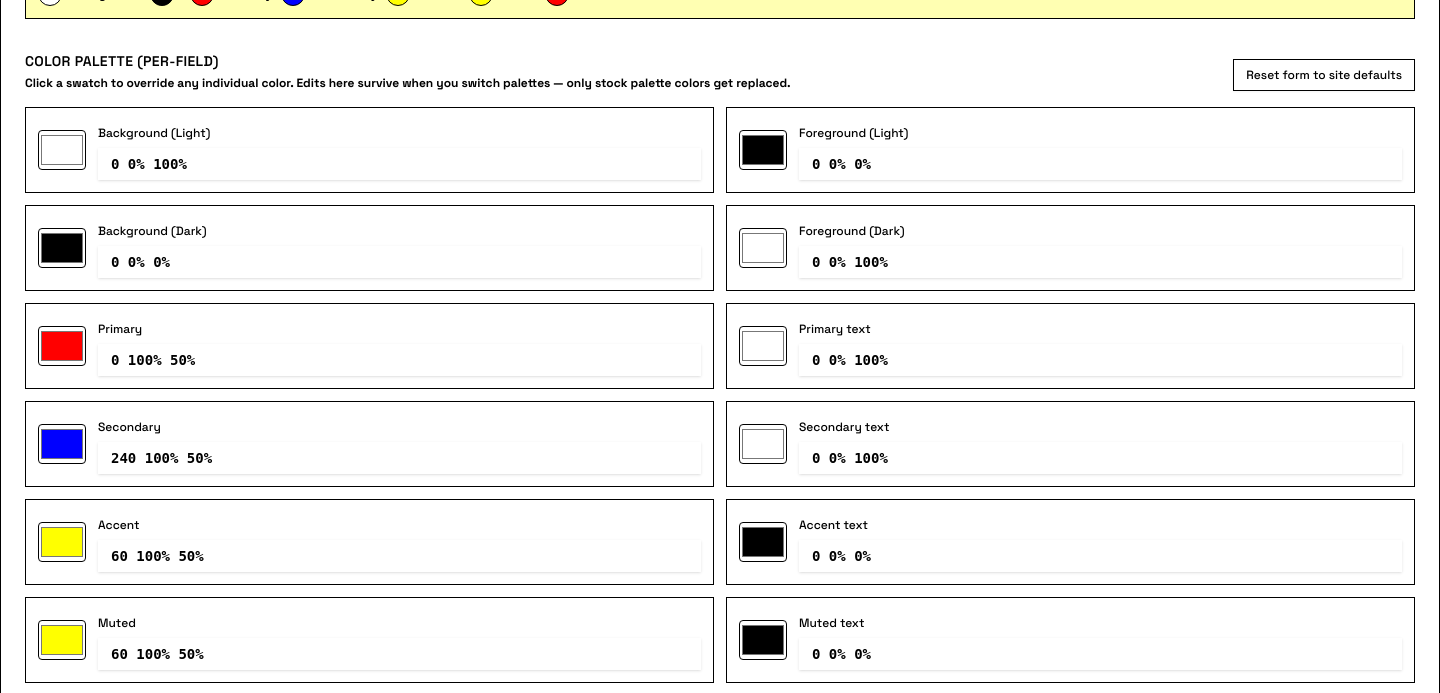
Test: UserPageCustomizationCard › preserves custom edits when switching palettes (smart merge)
The image size is (1440, 693).
(page scrolled)
Type "270 60% 50%" into the field labelled "Primary".
click(400, 360); type("270 60% 50%")  # box [98,344,701,376]
(page scrolled)
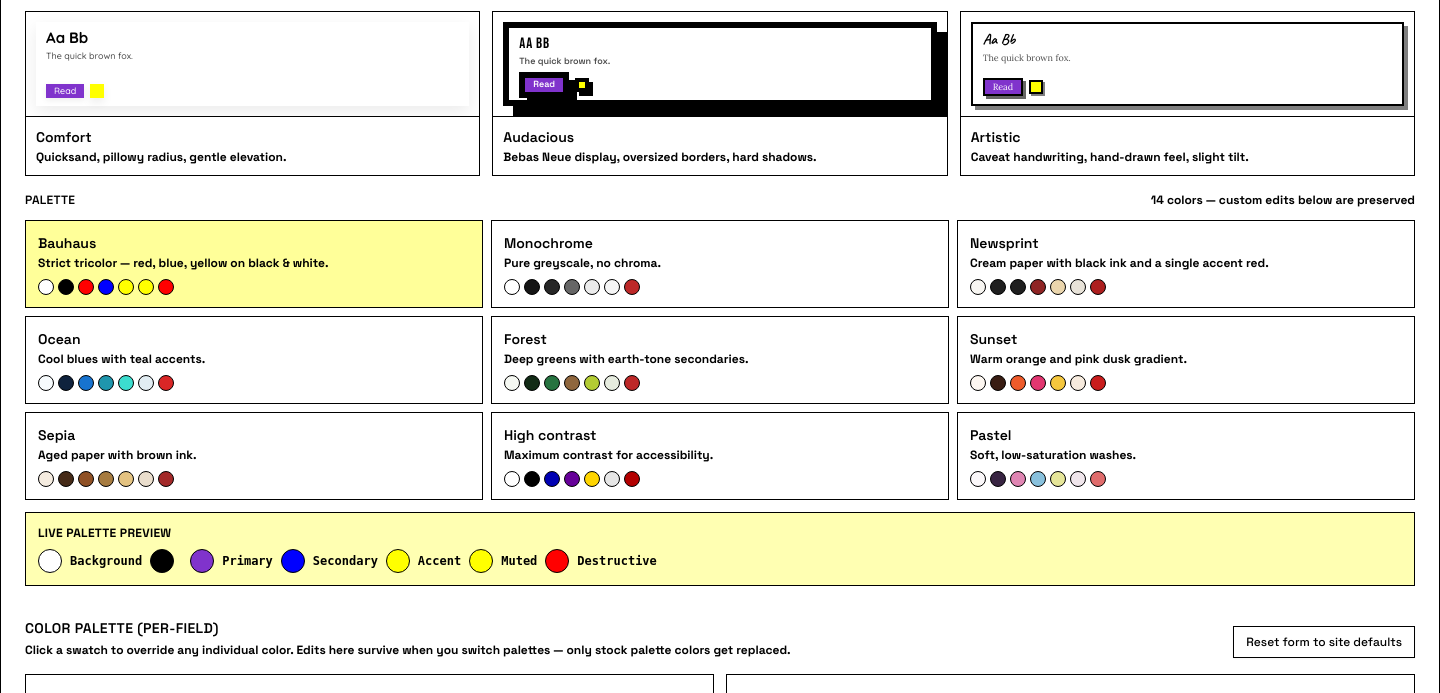
Click the button "Ocean Cool blues with teal accents.".
click(59, 339)  # box [25,316,483,404]
(page scrolled)
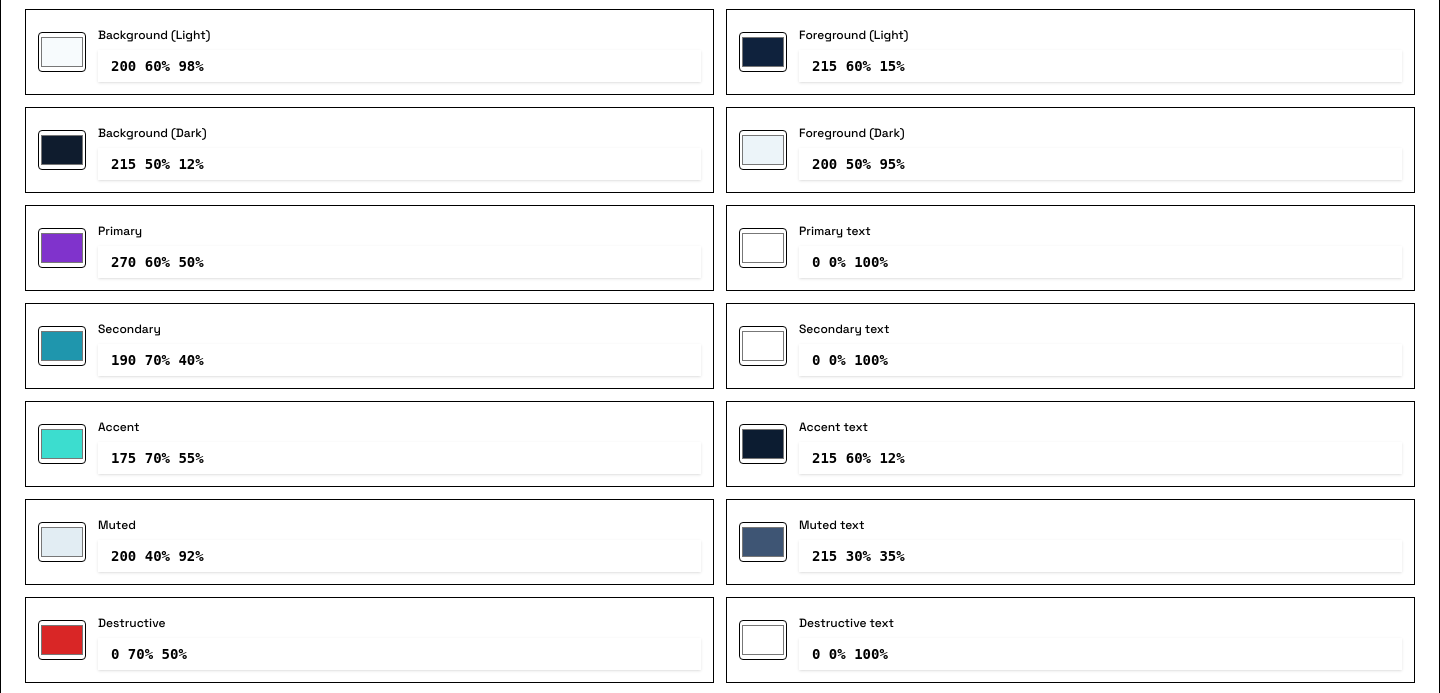
Result: the field labelled "Secondary" holds "190 70% 40%" at [98,344,701,376]
